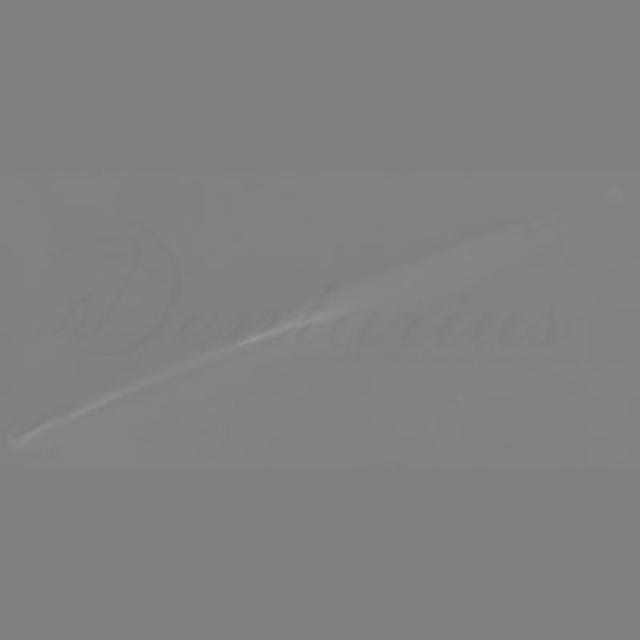elevador: (21, 192, 626, 450)
